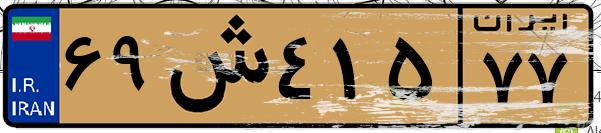1: (330, 28, 385, 110)
4: (270, 28, 330, 110)
5: (385, 28, 445, 110)
6: (57, 26, 110, 100)
7: (475, 38, 525, 113), (525, 38, 570, 115)
9: (110, 28, 158, 98)
ش: (158, 12, 270, 120)
